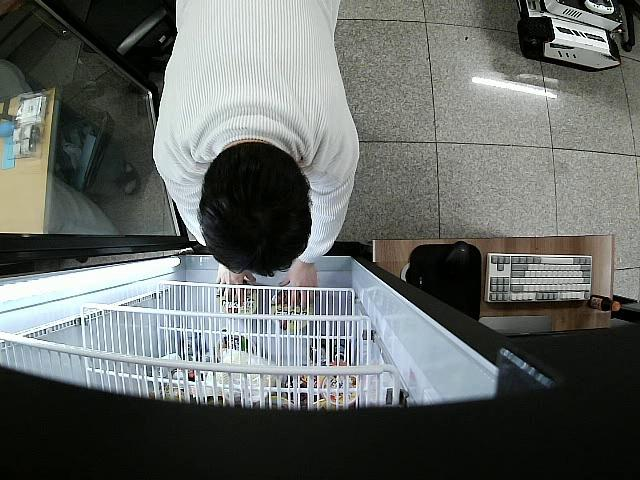00_hand: (279, 259, 319, 312), (214, 266, 257, 303)
03_chapagetti_L: (267, 291, 317, 328), (216, 279, 259, 317)
